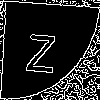Z: (25, 25, 58, 74)
